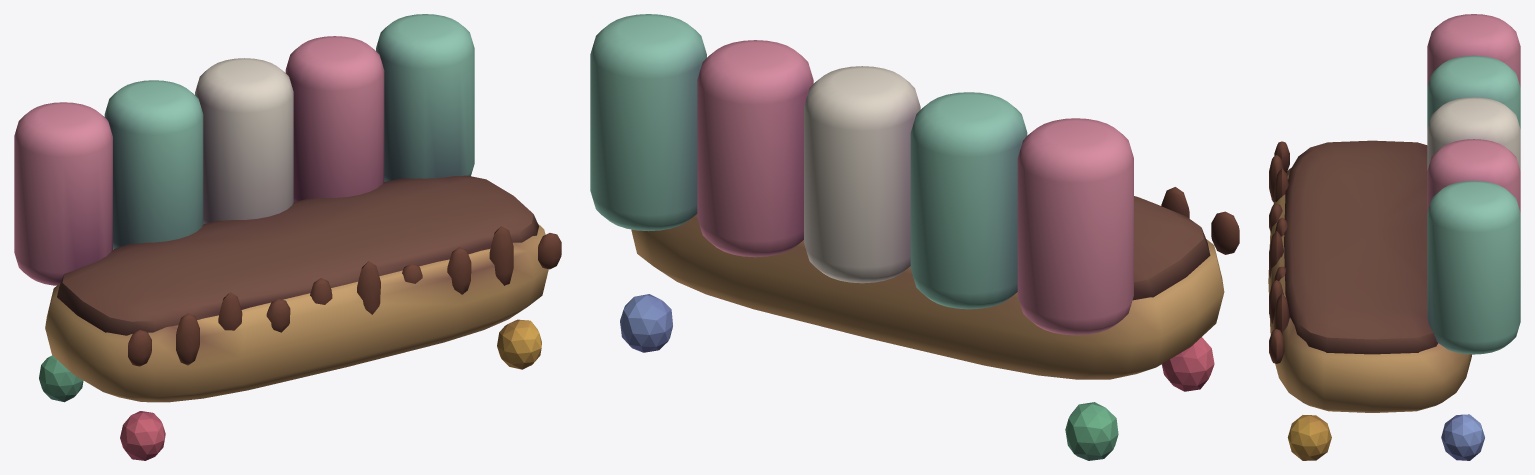
Rendered from sofa_candy.glb.
The picture shows the model from 3 angles, left to right: view 1: azimuth 30°, elevation 25°; view 2: azimuth 150°, elevation 25°; view 3: azimuth 270°, elevation 25°; orthographic projection. The views are drawn at different scales.
Parts seen in each view (by area): view 1: sofa_candy; view 2: sofa_candy; view 3: sofa_candy.
Part boxes in pixels (x1,y1,x2,y2): sofa_candy: (14, 14, 561, 460); sofa_candy: (590, 14, 1239, 460); sofa_candy: (1268, 14, 1520, 460).
Size of the model in its own units: 1.84 by 1.06 by 0.9201.
